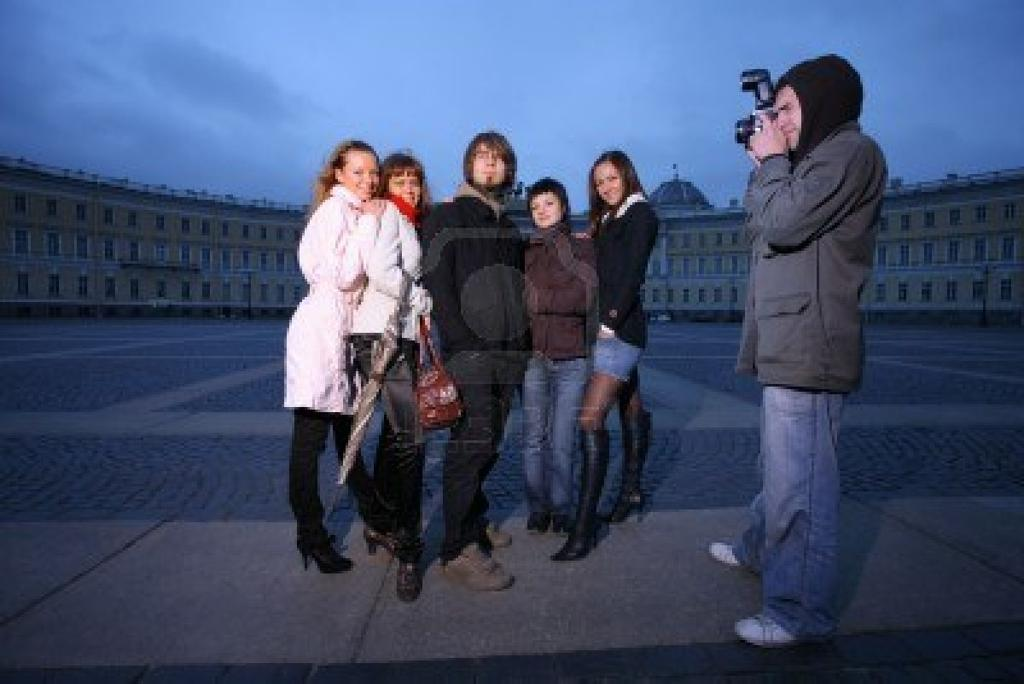face: (774, 82, 807, 148), (346, 152, 379, 198), (473, 143, 504, 185), (594, 161, 624, 204), (389, 168, 419, 208), (531, 191, 563, 228)
